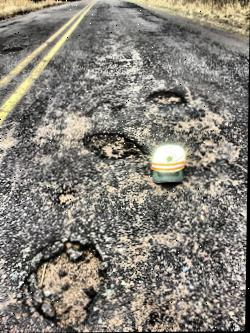pothole: (24, 238, 109, 330), (78, 130, 146, 162), (150, 87, 182, 109), (55, 190, 77, 203)
